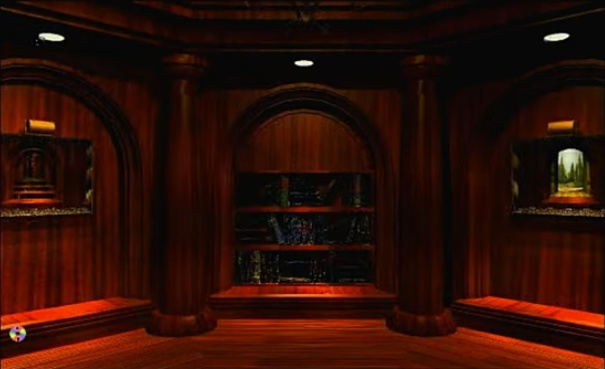Waiting: (6, 322, 28, 343)
